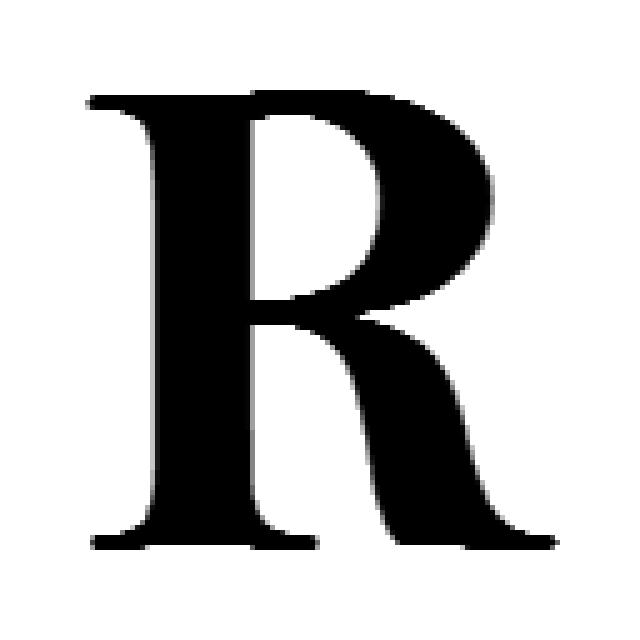R: (75, 80, 560, 555)
